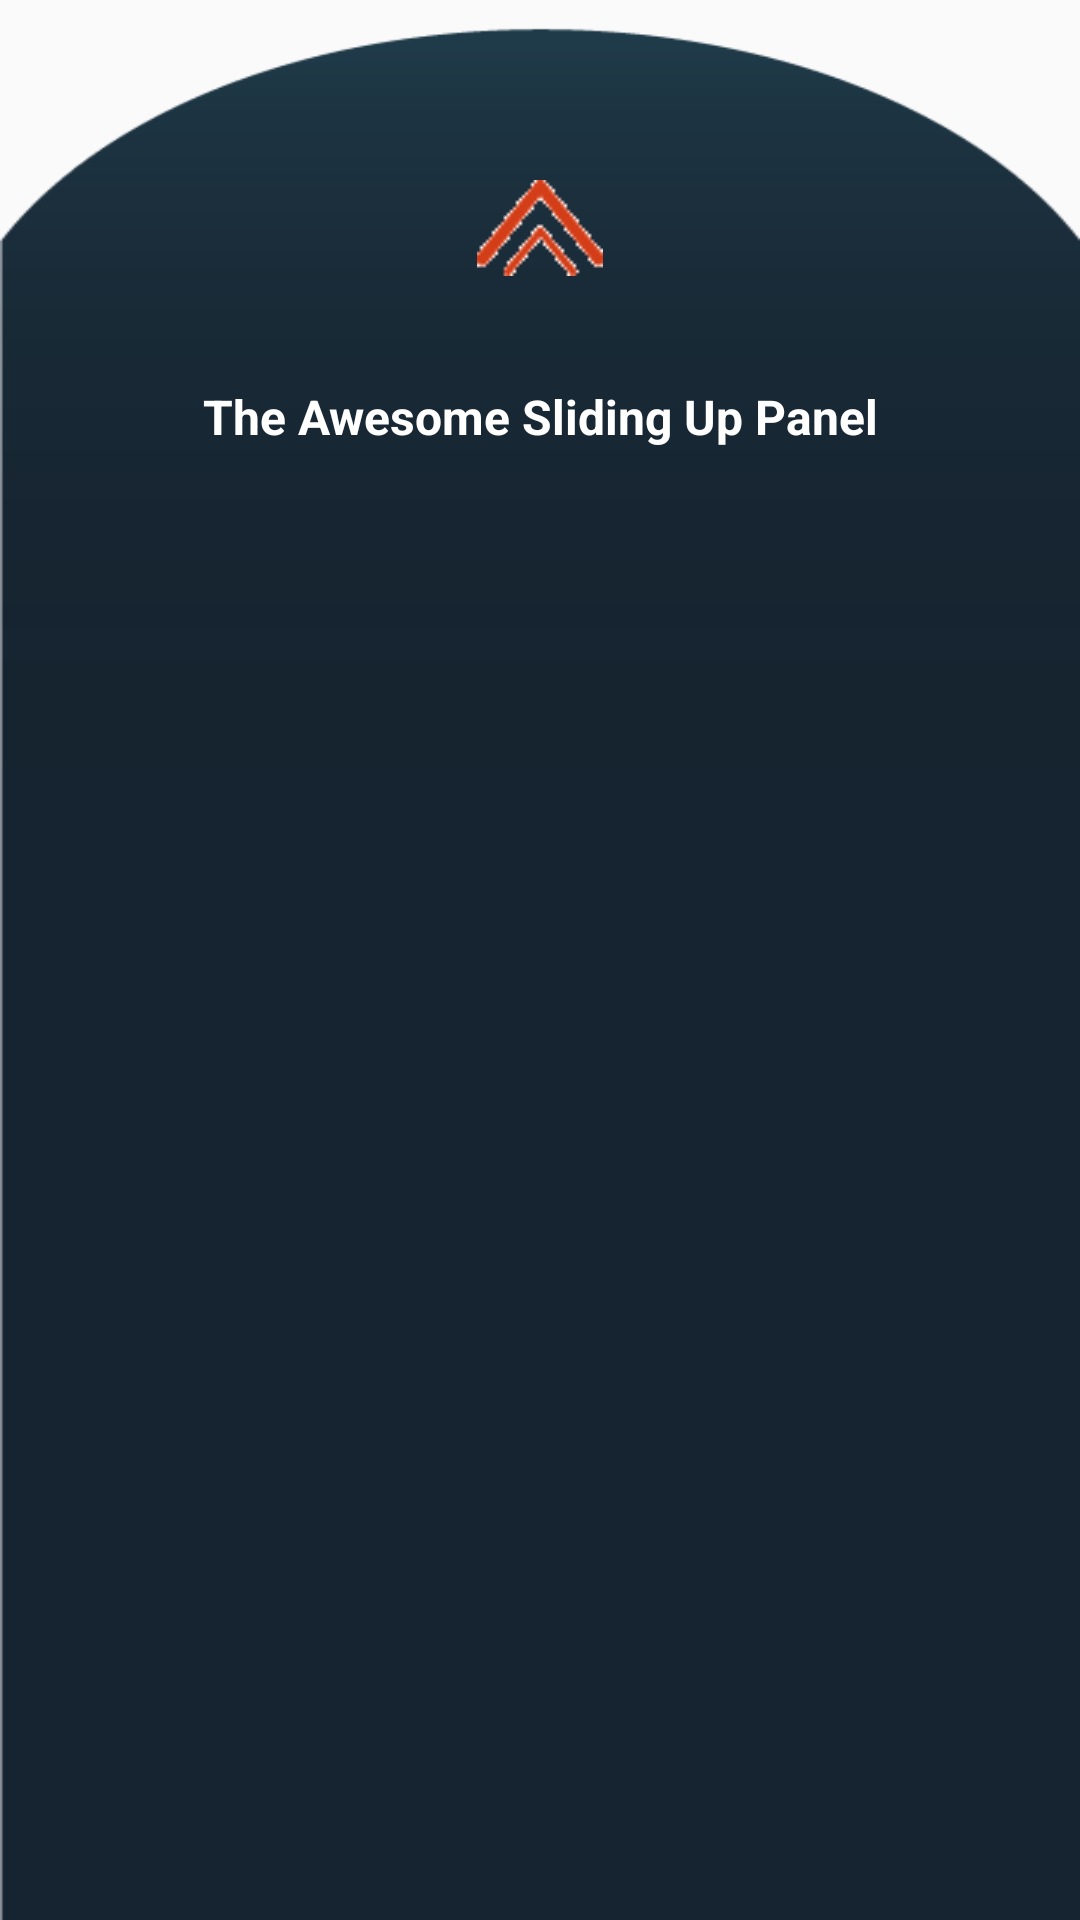

Locate icon controls on the screen. Image size 1080px x 1920px, boxes as rect(x1, y1, x2, y2).
arrow up: rect(477, 180, 603, 276)
